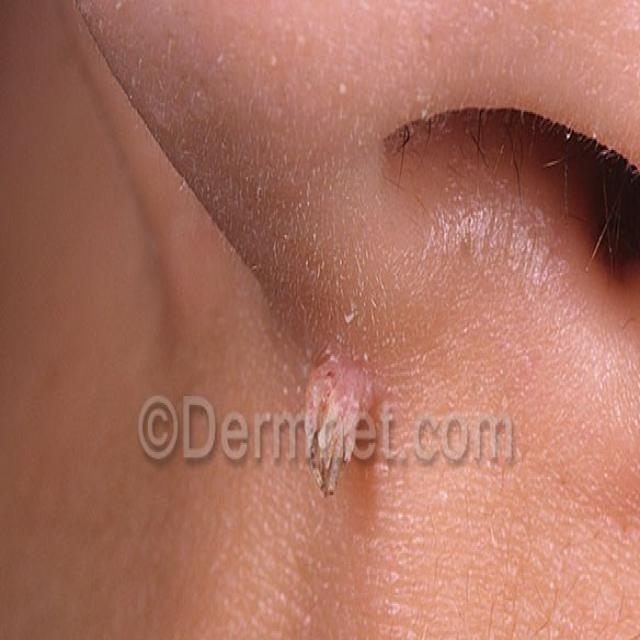Warts: (296, 326, 377, 527)
